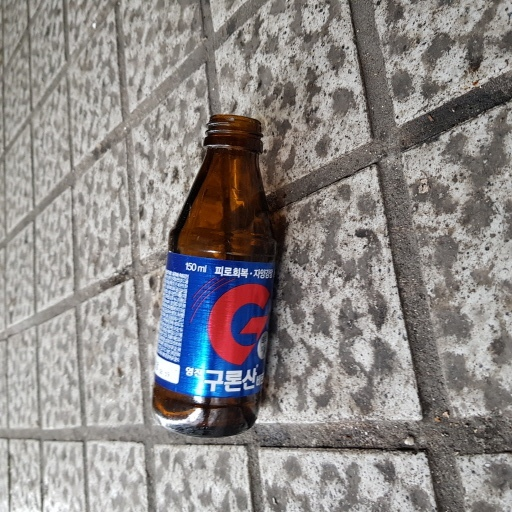Glass_3: (146, 115, 283, 437)
